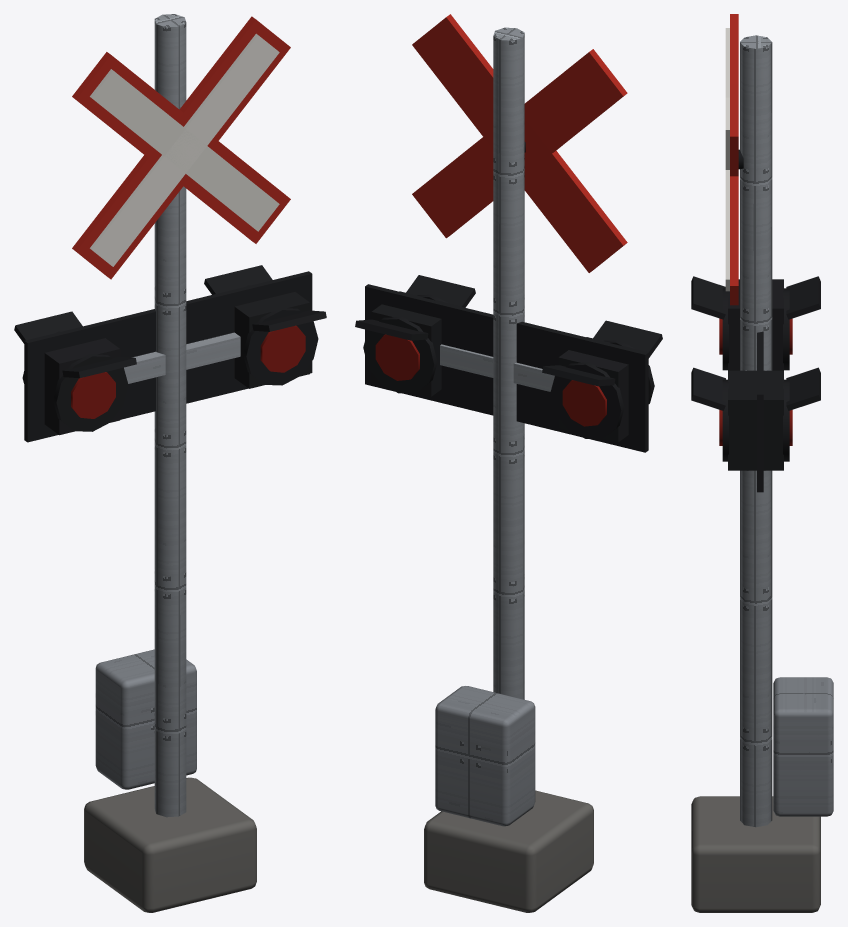
The model's file is sinal_passagem_de_nivel.glb.
3 views of the same model, side by side, from view 1: azimuth 30°, elevation 25°; view 2: azimuth 150°, elevation 25°; view 3: azimuth 270°, elevation 25° (orthographic).
Parts seen in each view (by area): view 1: sinal_passagem_de_nivel_liso, sinal_passagem_de_nivel; view 2: sinal_passagem_de_nivel_liso, sinal_passagem_de_nivel; view 3: sinal_passagem_de_nivel_liso, sinal_passagem_de_nivel.
Boxes of the visible parts, bbox=[...] form: sinal_passagem_de_nivel_liso: bbox=[14, 16, 326, 912]; sinal_passagem_de_nivel: bbox=[95, 14, 240, 817]; sinal_passagem_de_nivel_liso: bbox=[355, 14, 662, 912]; sinal_passagem_de_nivel: bbox=[435, 27, 554, 826]; sinal_passagem_de_nivel_liso: bbox=[691, 14, 820, 912]; sinal_passagem_de_nivel: bbox=[740, 35, 833, 827].
Bounding box in the file's own units: 1.5 × 4.32 × 0.6603.
2 materials, 1 textured.
